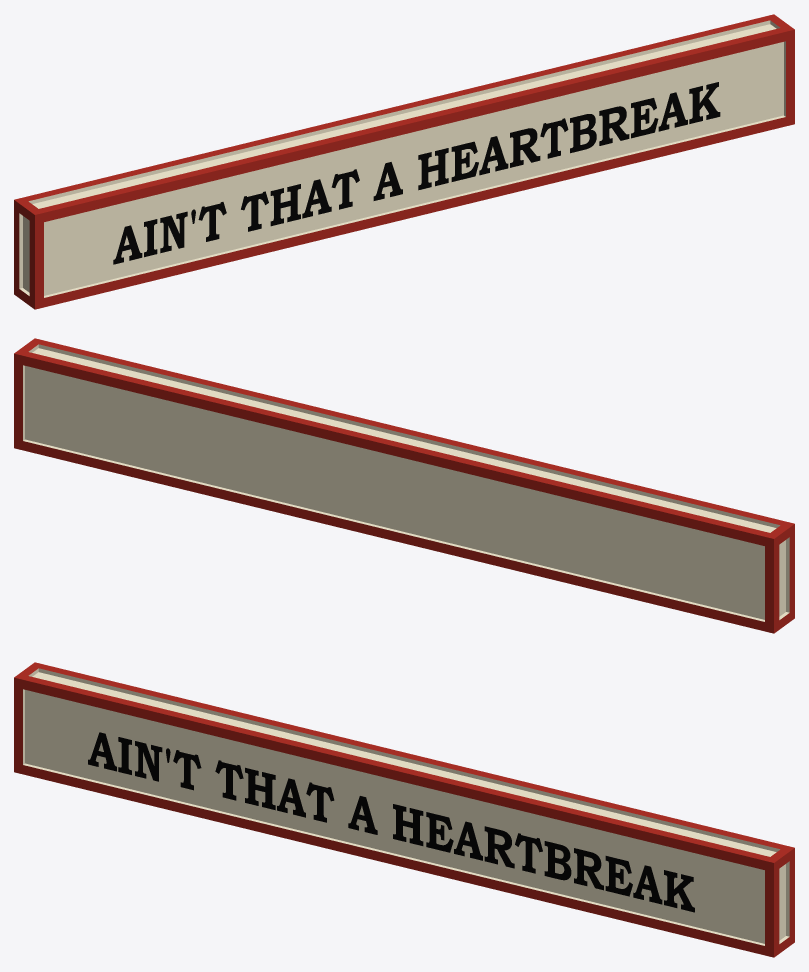
Rendered from aintThatAHeartBreak.glb.
The picture shows the model from 3 angles, top to bottom: view 1: azimuth 30°, elevation 25°; view 2: azimuth 150°, elevation 25°; view 3: azimuth 330°, elevation 25°; orthographic projection.
Parts seen in each view (by area): view 1: ButtonBase, ButtonText; view 2: ButtonBase; view 3: ButtonBase, ButtonText.
Part boxes in pixels (box(x1,y1,x2,y2)): ButtonBase: box(14, 14, 794, 309); ButtonText: box(113, 82, 720, 264); ButtonBase: box(14, 338, 794, 633); ButtonBase: box(14, 662, 794, 957); ButtonText: box(88, 732, 694, 912).
Size of the model in its own units: 10.5 by 1.25 by 0.5538.
